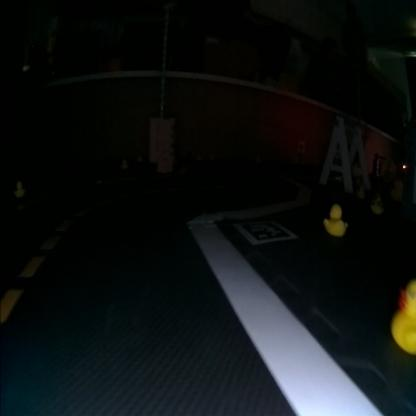Duckie: (392, 278, 415, 357), (325, 202, 348, 236), (371, 196, 385, 214), (14, 181, 26, 197)
QR code: (236, 218, 296, 244)
